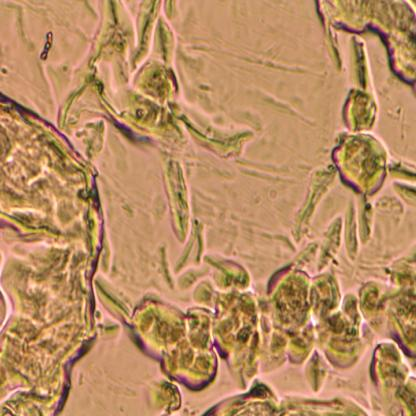Normal: (0, 273, 416, 416), (0, 75, 101, 416)
